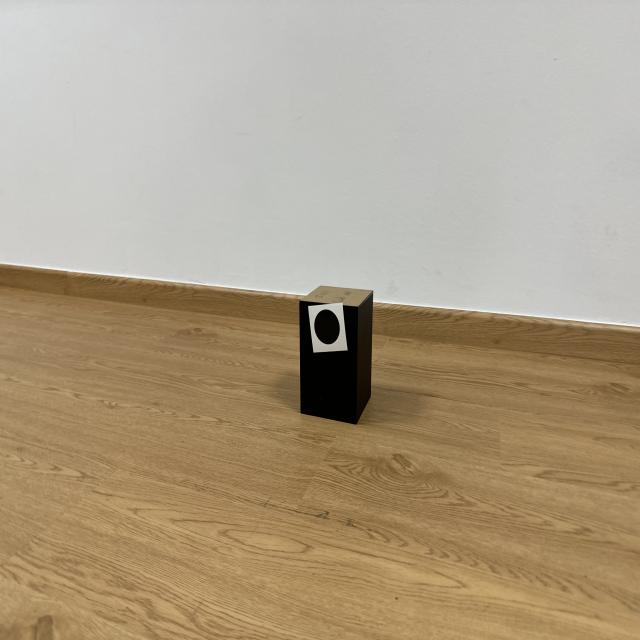CIRCLE: (314, 310, 340, 345)
